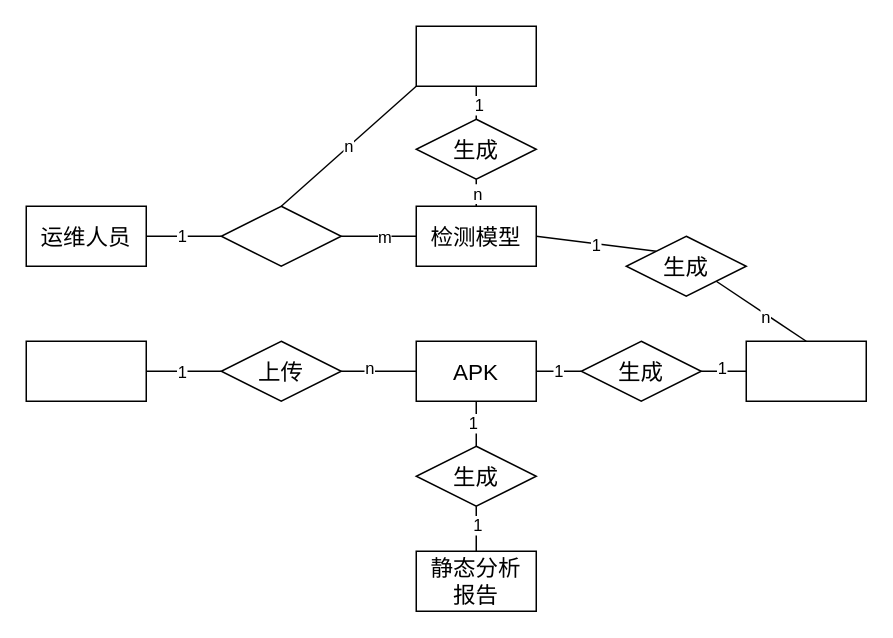
The diagram is 893 pixels wide and 638 high, and some of its shapes have lost their labels. Here are the shapes that lost their labels. From the top down, the box of each, then its label:
(415, 25, 536, 86): 训练集
(220, 205, 341, 266): 管理
(25, 340, 146, 401): 普通客户
(745, 340, 866, 401): 恶意检测 报告
